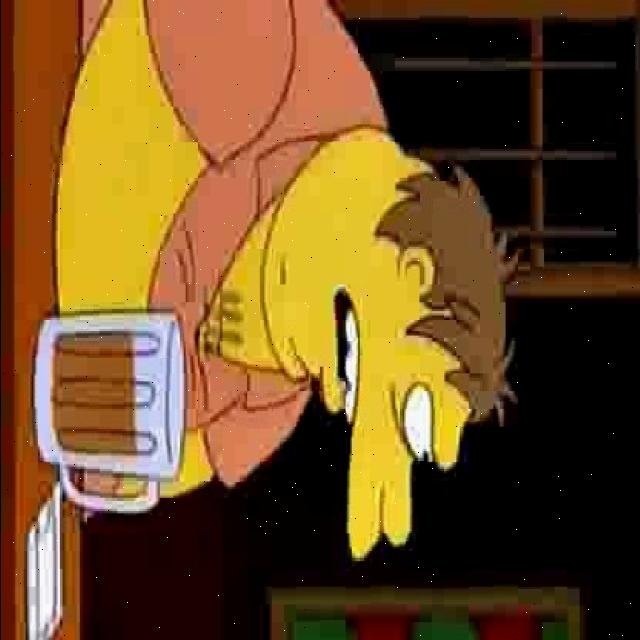Barney Gumble: (258, 125, 524, 568)
